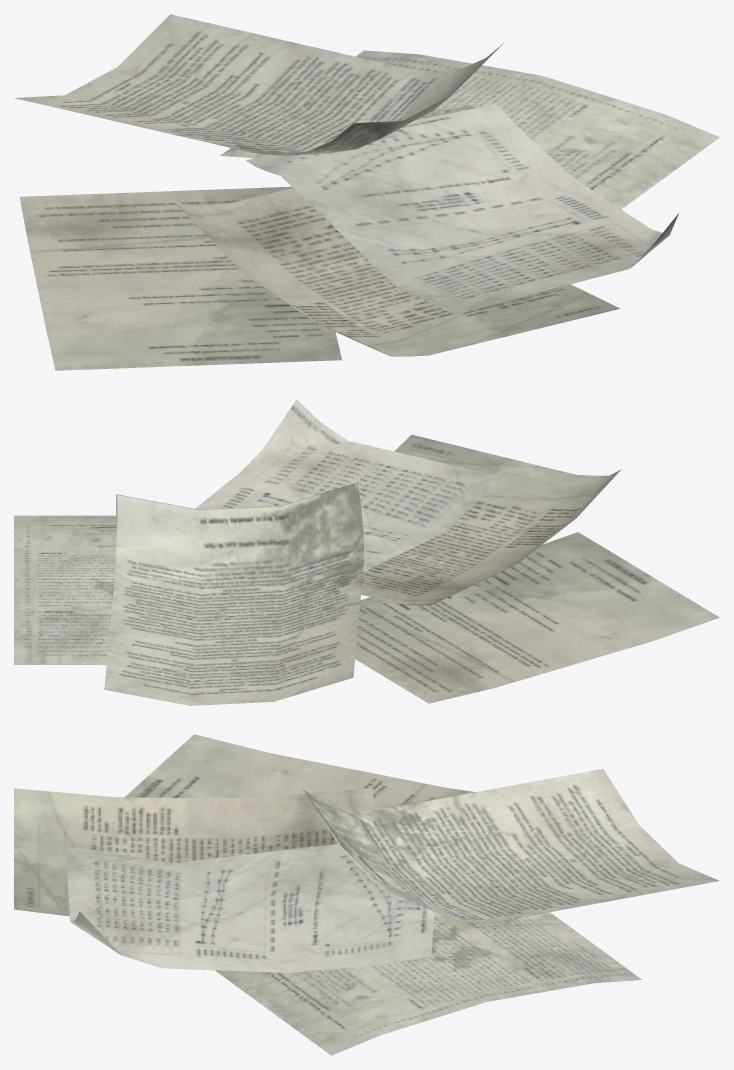
The model's file is Bunch_of_Papers_C.obj.
3 views of the same model, one above another, from view 1: azimuth 30°, elevation 25°; view 2: azimuth 150°, elevation 25°; view 3: azimuth 270°, elevation 25° (orthographic). The views are drawn at different scales.
Parts seen in each view (by area): view 1: Bunch_of_Papers_C; view 2: Bunch_of_Papers_C; view 3: Bunch_of_Papers_C.
Boxes of the visible parts, x1,y1,x2,y2 form: Bunch_of_Papers_C: (14, 14, 719, 370); Bunch_of_Papers_C: (14, 399, 719, 705); Bunch_of_Papers_C: (14, 734, 719, 1055).
Size of the model in its own units: 36.84 by 5.69 by 34.7.
